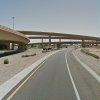Bridge: (2, 20, 94, 52)
